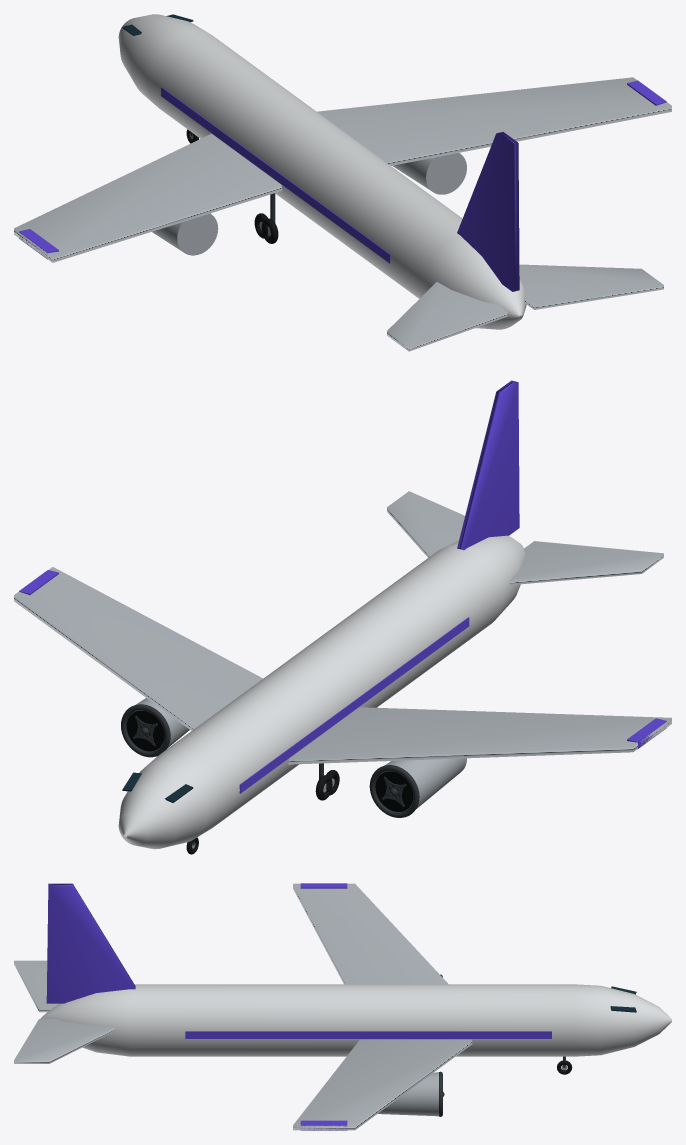
The picture shows the model from 3 angles, top to bottom: view 1: azimuth 30°, elevation 25°; view 2: azimuth 150°, elevation 25°; view 3: azimuth 270°, elevation 25°; orthographic projection. The views are drawn at different scales.
Visible parts, largest first — view 1: Fuselage, Right Wing, Left Wing, Vertical Tail, Right Stabilizer, Left Stabilizer, Engine Nacelle (×2), Livery Stripe; view 2: Fuselage, Left Wing, Right Wing, Vertical Tail, Left Stabilizer, Right Stabilizer, Livery Stripe, Engine Intake (×2), Engine Intake Rim (×2), Engine Nacelle; view 3: Fuselage, Left Wing, Right Wing, Vertical Tail, Livery Stripe, Right Stabilizer, Engine Nacelle, Left Stabilizer.
Part boxes in pixels (bbox=[...]): Fuselage: bbox=[118, 14, 526, 329]; Right Wing: bbox=[317, 77, 671, 165]; Left Wing: bbox=[14, 133, 282, 262]; Vertical Tail: bbox=[457, 132, 519, 291]; Right Stabilizer: bbox=[519, 264, 663, 309]; Left Stabilizer: bbox=[387, 282, 507, 351]; Engine Nacelle (×2): bbox=[152, 153, 466, 255]; Livery Stripe: bbox=[161, 87, 390, 263]; Fuselage: bbox=[118, 535, 525, 849]; Left Wing: bbox=[288, 707, 671, 764]; Right Wing: bbox=[14, 567, 262, 730]; Vertical Tail: bbox=[457, 380, 519, 550]; Left Stabilizer: bbox=[509, 541, 663, 585]; Right Stabilizer: bbox=[387, 491, 464, 557]; Livery Stripe: bbox=[239, 617, 469, 793]; Engine Intake (×2): bbox=[126, 710, 413, 811]; Engine Intake Rim (×2): bbox=[121, 704, 419, 817]; Engine Nacelle: bbox=[378, 758, 466, 812]; Fuselage: bbox=[40, 984, 671, 1056]; Left Wing: bbox=[293, 883, 448, 984]; Right Wing: bbox=[293, 1039, 472, 1130]; Vertical Tail: bbox=[46, 883, 135, 1003]; Livery Stripe: bbox=[185, 1031, 551, 1038]; Right Stabilizer: bbox=[14, 1019, 115, 1063]; Engine Nacelle: bbox=[378, 1072, 438, 1116]; Left Stabilizer: bbox=[14, 960, 58, 1012].
Bounding box in the file's own units: 22.1 × 8.48 × 25.4.
